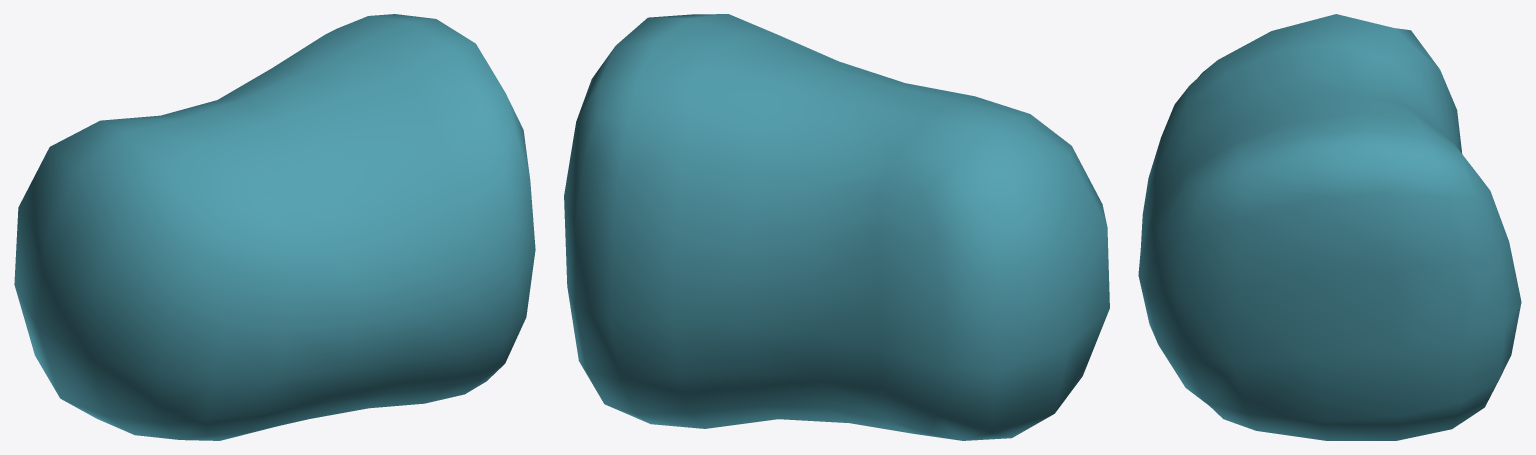
The model's file is VIS_Alpha_Surface_039.dae.
3 renders of one model, left to right at view 1: azimuth 30°, elevation 25°; view 2: azimuth 150°, elevation 25°; view 3: azimuth 270°, elevation 25°, orthographic. The views are drawn at different scales.
Visible parts, largest first — view 1: VIS_Alpha_Surface_039; view 2: VIS_Alpha_Surface_039; view 3: VIS_Alpha_Surface_039.
Part boxes in pixels (box(x1,y1,x2,y2)): VIS_Alpha_Surface_039: box(14, 14, 535, 440); VIS_Alpha_Surface_039: box(564, 14, 1109, 440); VIS_Alpha_Surface_039: box(1138, 14, 1521, 440).
Bounding box in the file's own units: 0.0342 × 0.0272 × 0.025.
